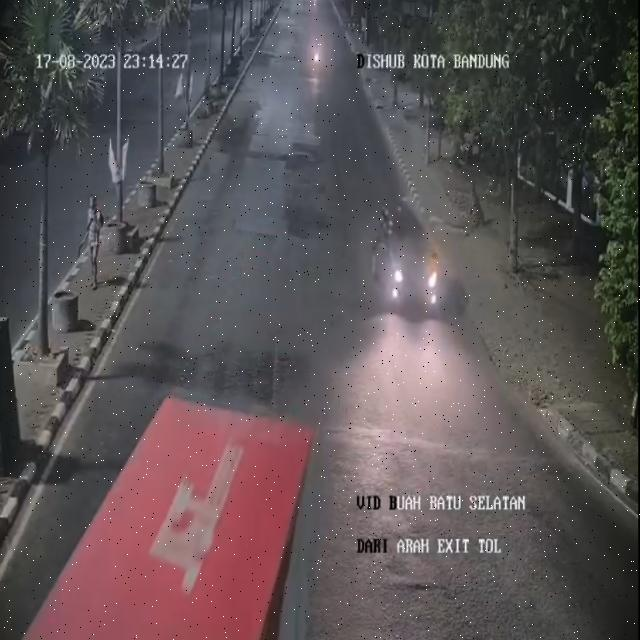cars: (370, 202, 451, 328)
truck: (8, 399, 316, 640)
